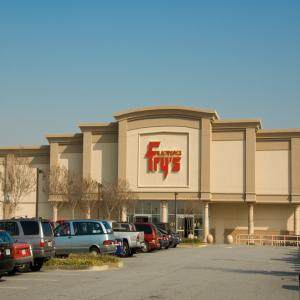Vehicle-registration-plate: (6, 249, 11, 256), (22, 250, 27, 256)
